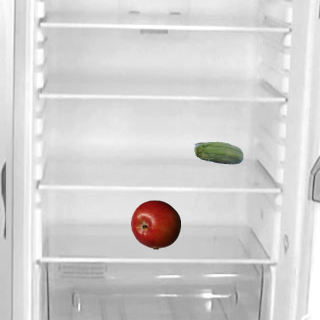Apple Braeburn: (130, 199, 180, 249)
Corn Husk: (193, 129, 243, 179)
